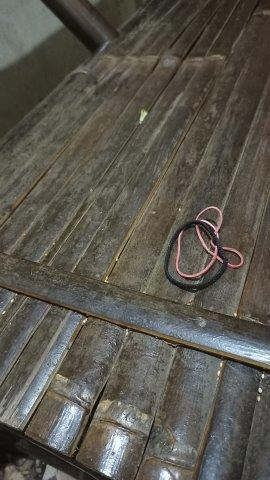karet: (164, 206, 244, 289)
